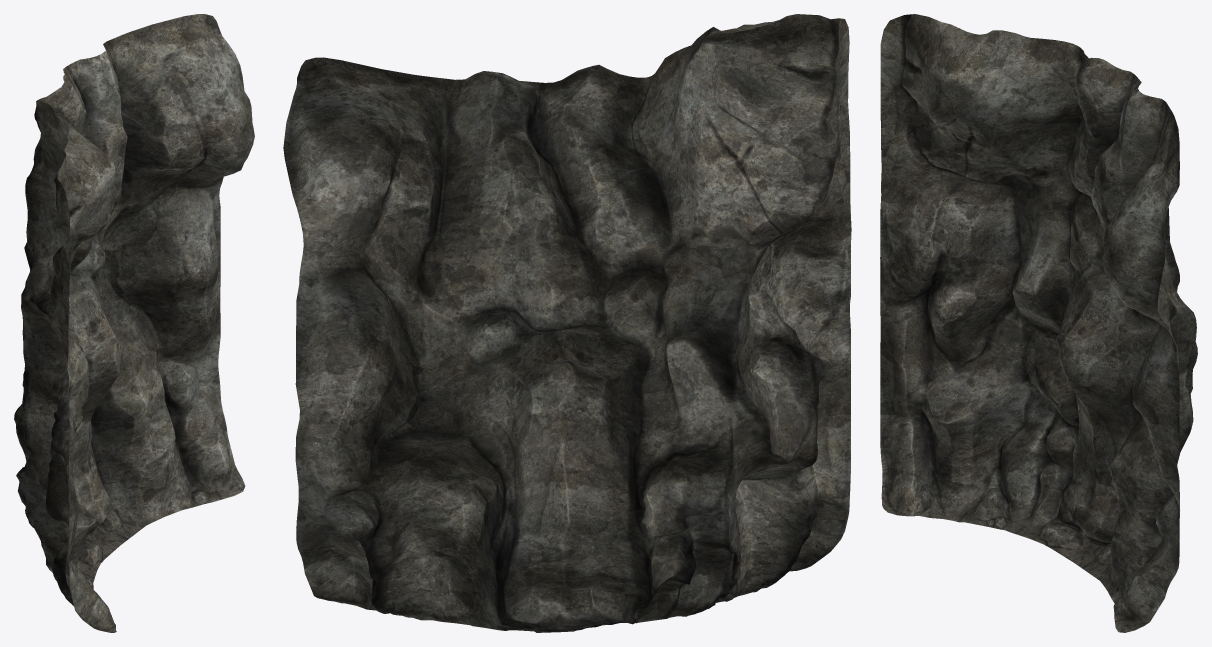
File: cave_ravine_wall_01_concave.dae
The picture shows the model from 3 angles, left to right: view 1: azimuth 30°, elevation 25°; view 2: azimuth 150°, elevation 25°; view 3: azimuth 270°, elevation 25°; orthographic projection. The views are drawn at different scales.
Visible parts, largest first — view 1: wall_1_concave; view 2: wall_1_concave; view 3: wall_1_concave.
Part boxes in pixels (<box>): wall_1_concave: <box>14,14,254,632</box>; wall_1_concave: <box>283,14,851,632</box>; wall_1_concave: <box>880,14,1197,632</box>.
Size of what is drawn, in the model's own units: 2.87 by 4.11 by 2.43.
